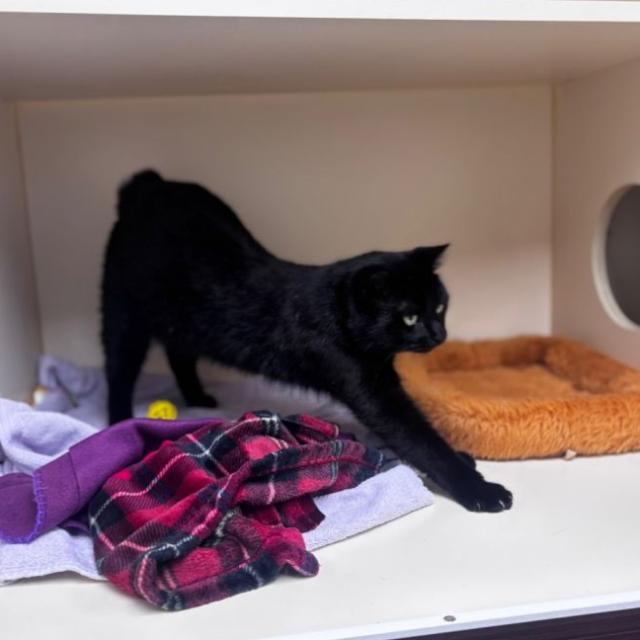American Bobtail: (93, 160, 517, 521)
